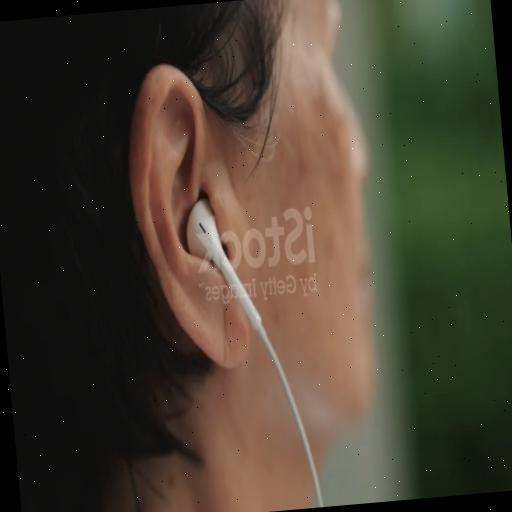earphone: (185, 193, 324, 512)
